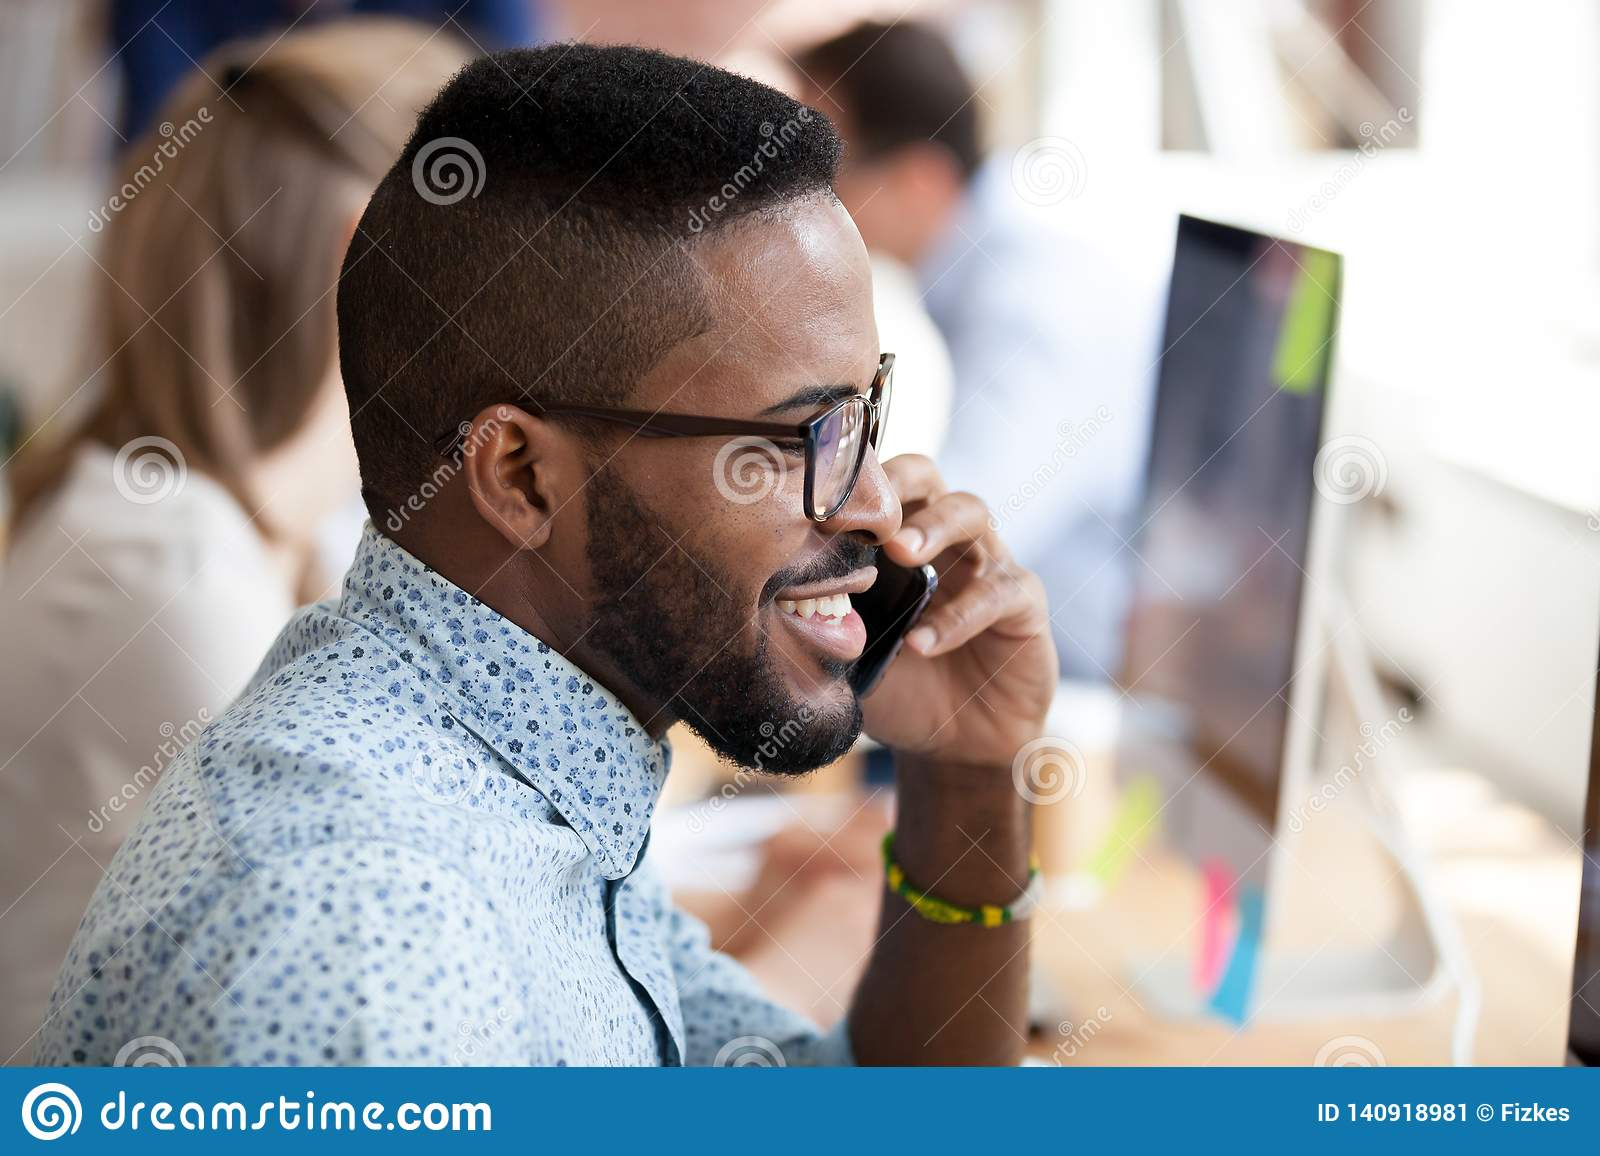talk: (704, 318, 1058, 836)
